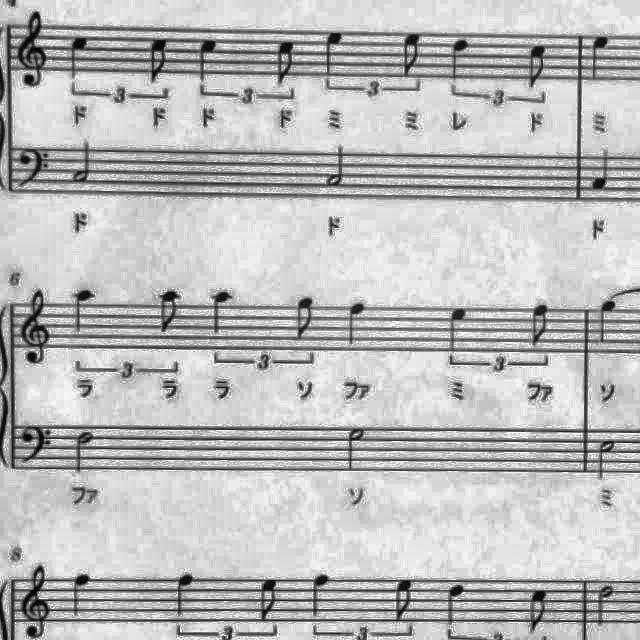Bass-clef: (14, 142, 54, 194), (15, 417, 55, 467)
Eighth-note: (393, 26, 427, 82), (522, 39, 554, 93), (270, 35, 302, 89), (142, 33, 174, 87), (524, 298, 556, 350), (522, 584, 554, 636), (288, 294, 320, 346), (152, 288, 184, 340), (255, 572, 285, 624), (389, 574, 419, 624)
Half-note: (342, 424, 372, 476), (70, 424, 98, 478), (67, 136, 96, 188), (591, 578, 619, 630), (322, 141, 351, 191), (593, 434, 621, 484)
Quarter-note: (442, 301, 474, 357), (70, 284, 102, 340), (203, 287, 237, 339), (341, 296, 372, 352), (319, 28, 351, 82), (590, 292, 620, 348), (193, 34, 224, 88), (444, 34, 476, 86), (66, 570, 98, 622), (586, 31, 616, 84), (169, 568, 199, 620), (63, 32, 93, 84), (441, 578, 472, 628), (588, 146, 618, 197), (306, 569, 334, 619)
Treble-clef: (12, 9, 52, 93), (15, 286, 55, 369), (15, 562, 53, 640)
